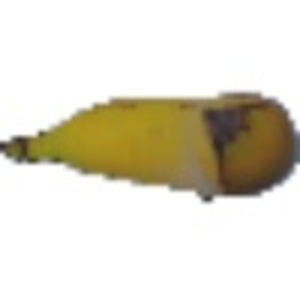banana: (5, 83, 297, 200)
